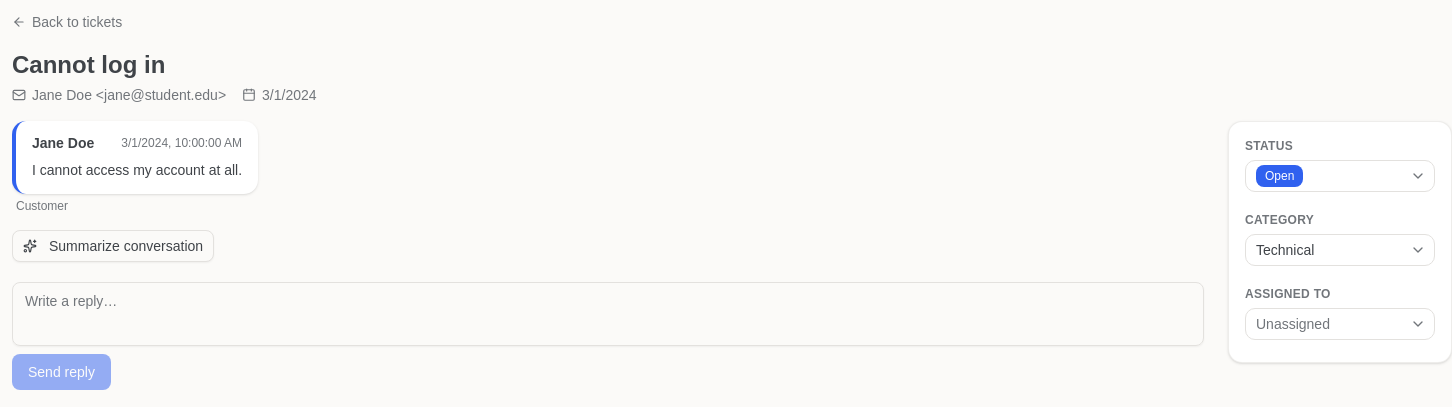
Test: Polish Button › shows 'Polishing…' and disables the button while in flight
The image size is (1452, 407).
Type "Draft" into the text box with placeholder "Write a reply…" at x=608, y=314, box [12,282,1204,346]
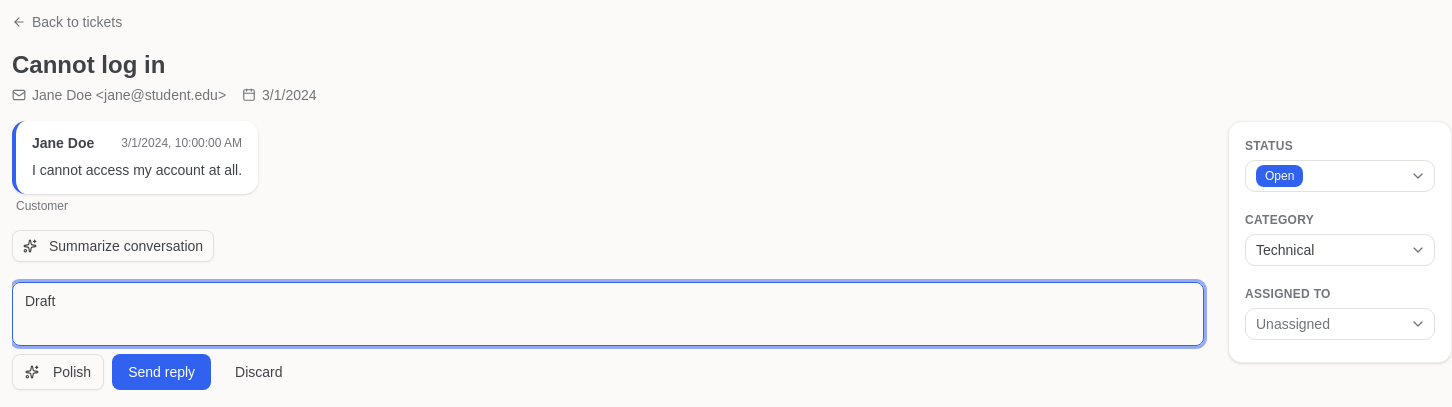
Click the button "Polish" at x=58, y=372, box [12,354,104,390]
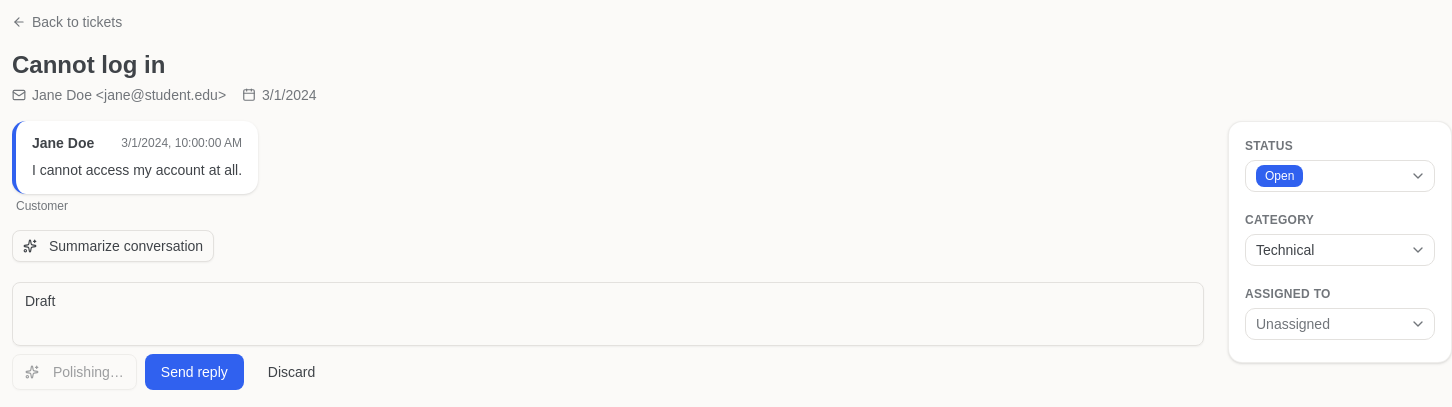
Result: the button "Polishing…" is disabled at [12,354,137,390]
